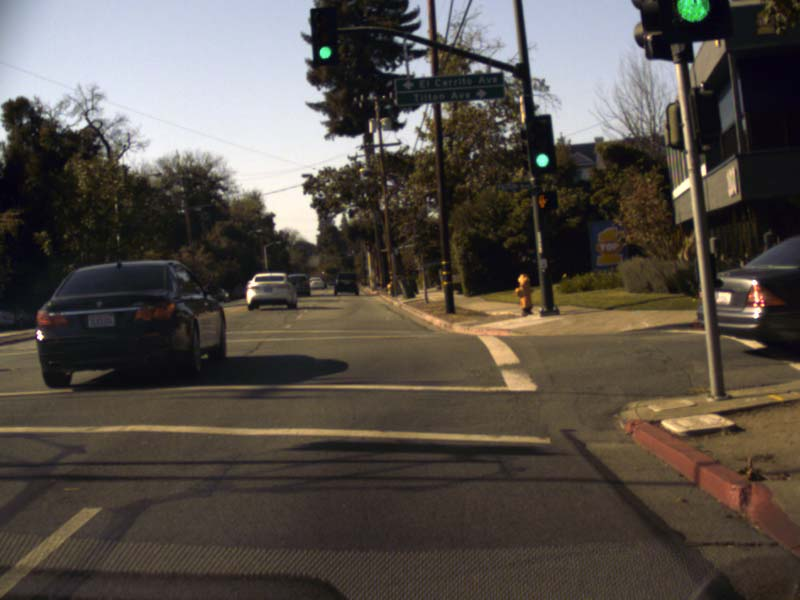Green: (311, 9, 336, 65), (531, 115, 552, 175)
